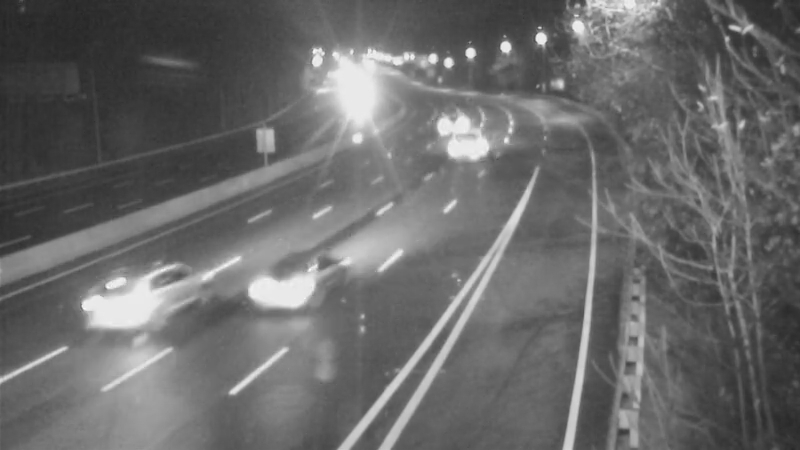vehicle: (83, 254, 163, 334), (421, 96, 471, 146), (439, 123, 489, 173), (255, 275, 305, 325)
